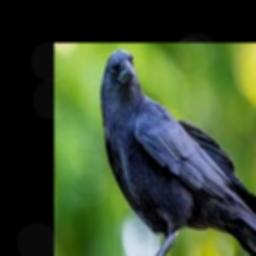Crow: (99, 48, 256, 256)
